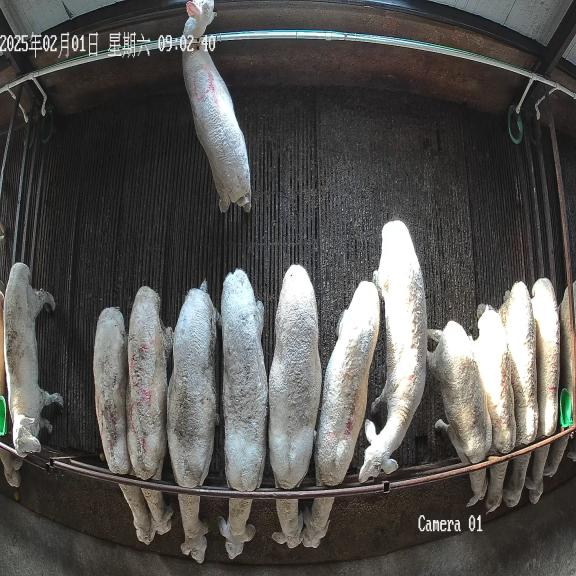eating: (299, 281, 380, 548), (268, 264, 322, 548), (167, 281, 220, 563), (93, 307, 155, 544), (219, 268, 268, 559), (427, 321, 492, 507), (127, 286, 173, 534), (499, 281, 538, 508), (474, 306, 516, 513), (524, 278, 560, 504)
stand: (359, 220, 428, 482), (182, 0, 251, 212), (4, 263, 63, 456)
